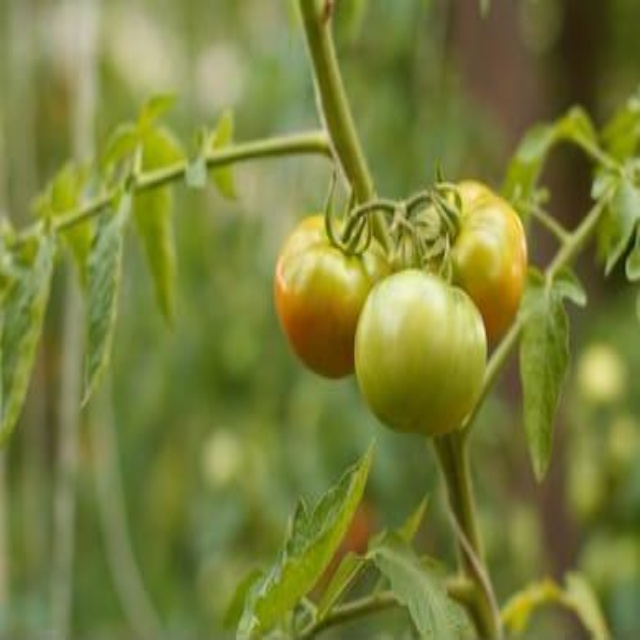tomato: (344, 277, 494, 445), (272, 228, 386, 386), (414, 175, 522, 322)
